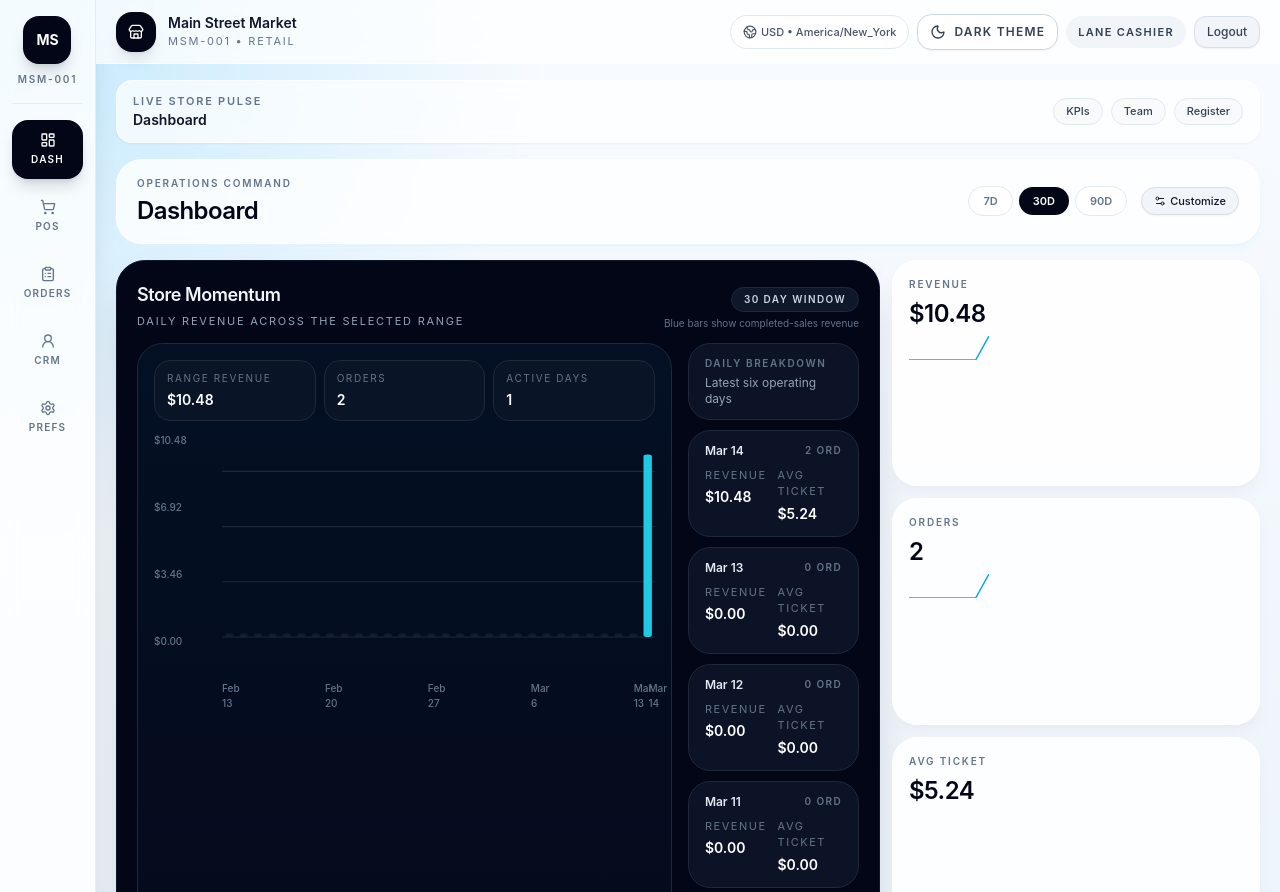
Test: app flows › allows route access when a user has a granted feature override
This screenshot has width=1280, height=892.
Expected: the heading "Dashboard" is shown, [137,196,258,224]
Click the link with aria-label "Settings": (48, 416) [29,400,66,433]
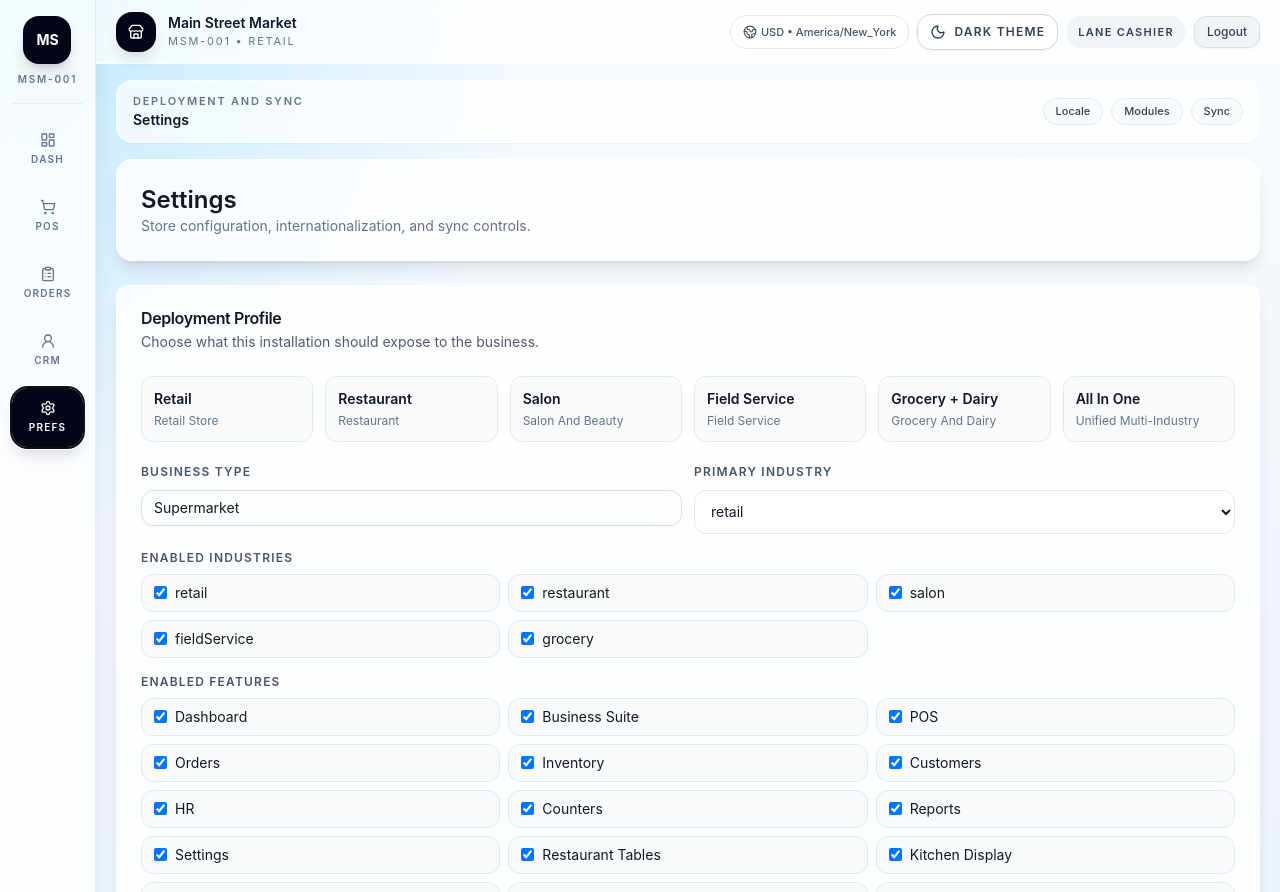
Expected: the heading "Settings" is shown, [141,184,237,214]
